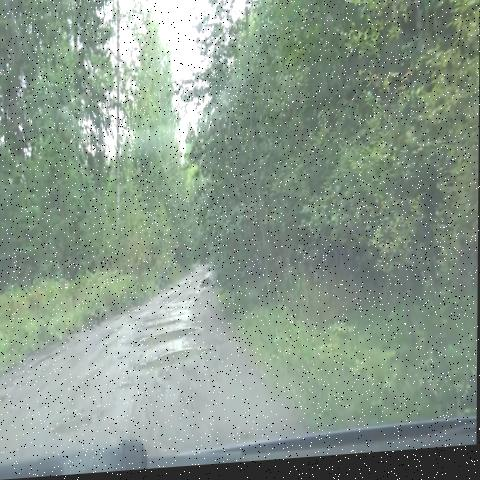pothole: (0, 347, 70, 414), (130, 345, 221, 390), (131, 320, 207, 355), (51, 401, 99, 450), (139, 303, 197, 336), (91, 321, 125, 357), (194, 263, 219, 299), (115, 376, 132, 402), (110, 354, 131, 372)
